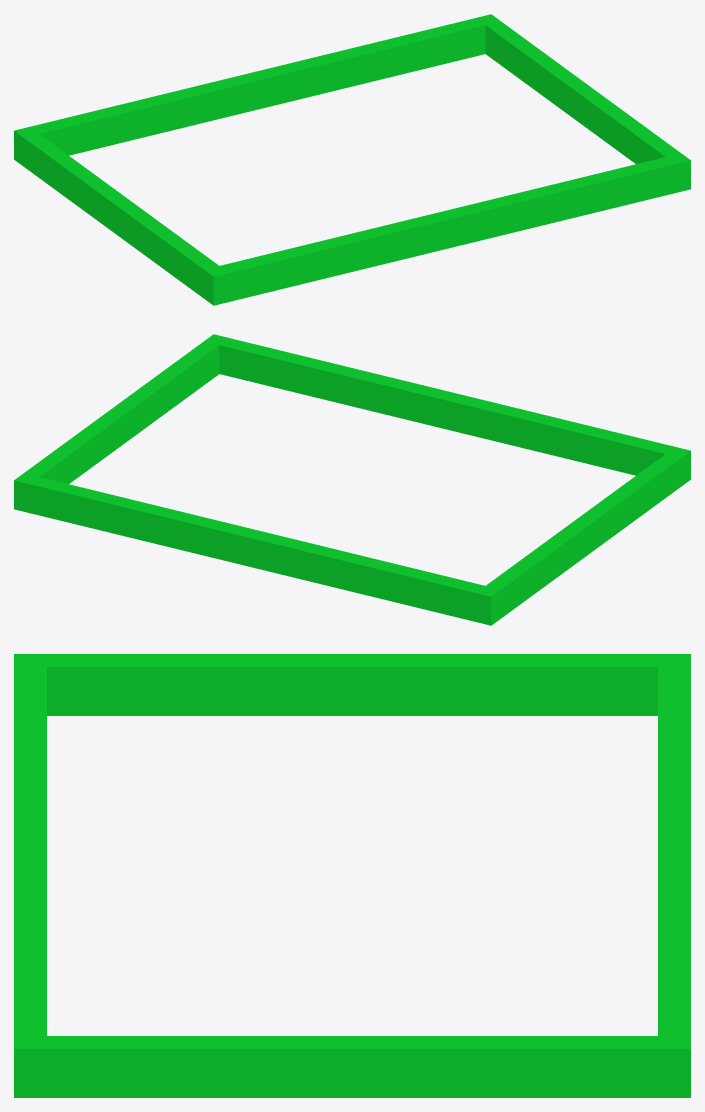
Rendered from Hit Note (Green).glb.
The picture shows the model from 3 angles, top to bottom: view 1: azimuth 30°, elevation 25°; view 2: azimuth 150°, elevation 25°; view 3: azimuth 270°, elevation 25°; orthographic projection. The views are drawn at different scales.
Parts seen in each view (by area): view 1: Cube; view 2: Cube; view 3: Cube.
Part boxes in pixels (<box>): Cube: <box>14,14,690,305</box>; Cube: <box>14,334,690,625</box>; Cube: <box>14,654,690,1097</box>.
Size of the model in its own units: 1.72 by 0.1 by 1.25.
